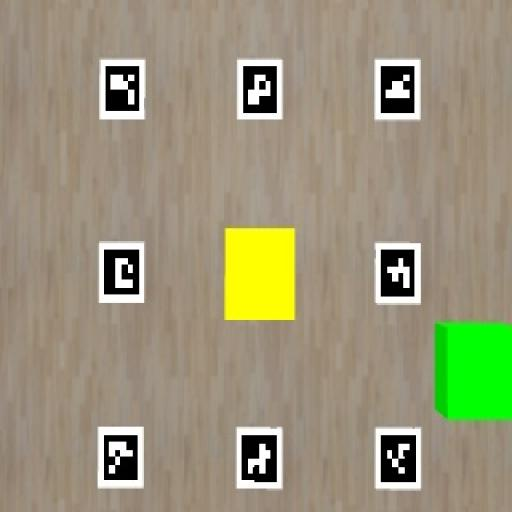car: (434, 323, 511, 420)
fire: (224, 229, 294, 319)
